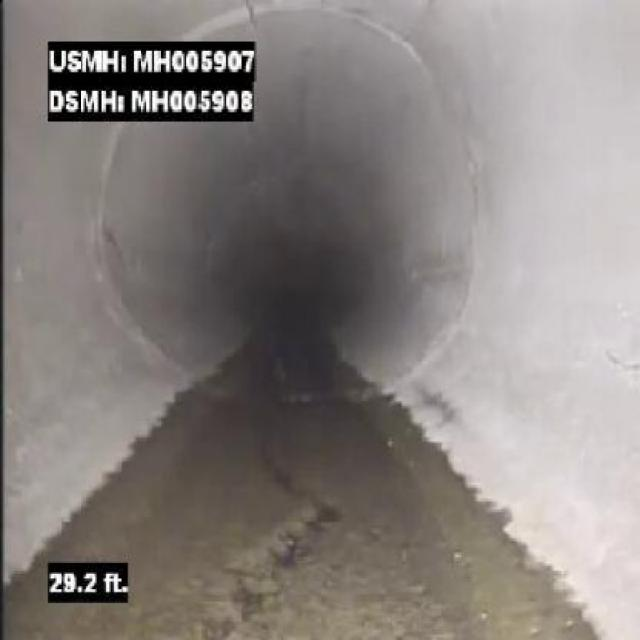Crack: (244, 422, 374, 629), (604, 312, 638, 396), (232, 3, 271, 32)
